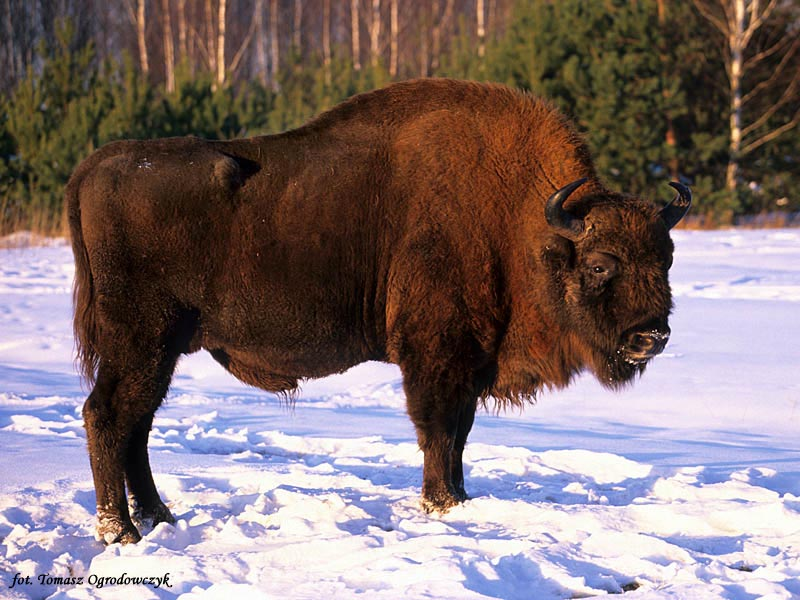zubr: (37, 57, 696, 552)
